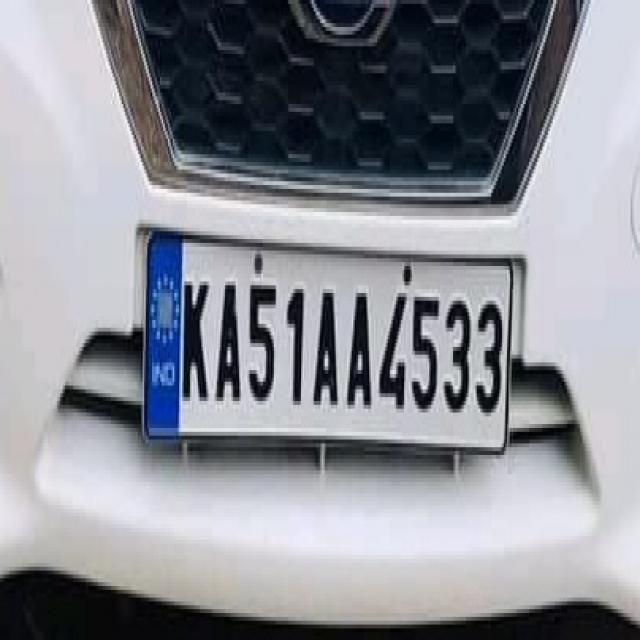1: (284, 272, 312, 414)
3: (443, 288, 473, 422), (476, 295, 505, 423)
4: (378, 286, 410, 420)
5: (246, 267, 280, 412), (410, 286, 440, 414)
A: (214, 270, 244, 417), (344, 281, 374, 421), (314, 276, 342, 418)
K: (181, 266, 211, 410)
